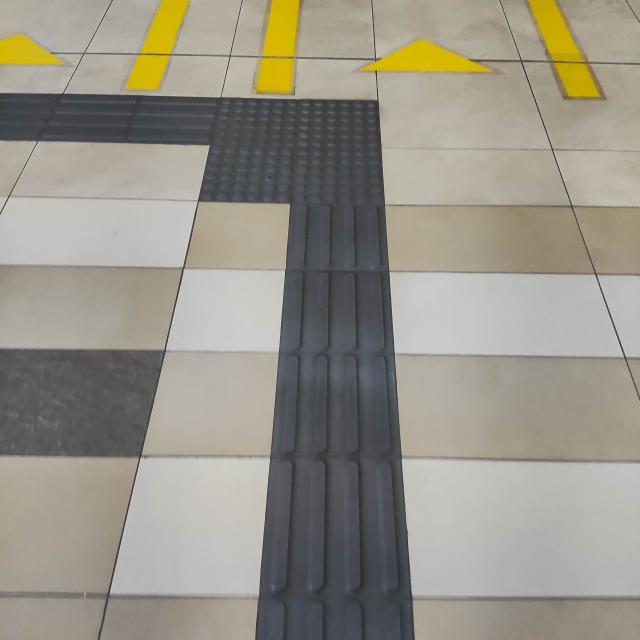kiri: (76, 52, 428, 264)
